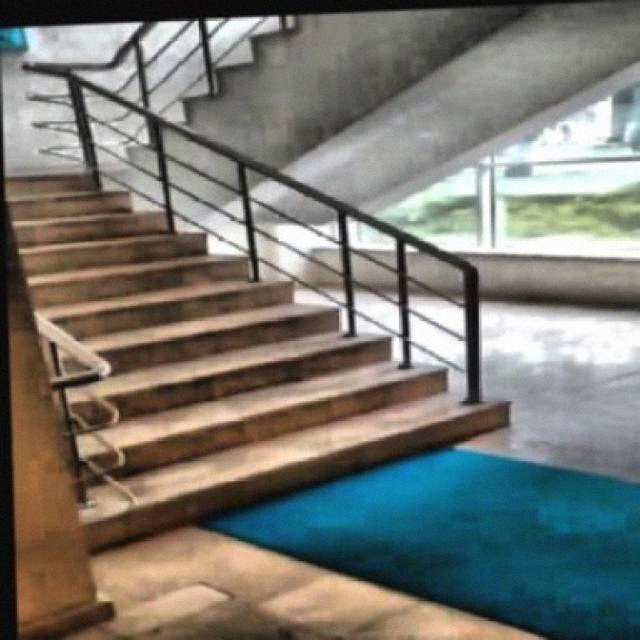stair: (5, 116, 499, 552)
